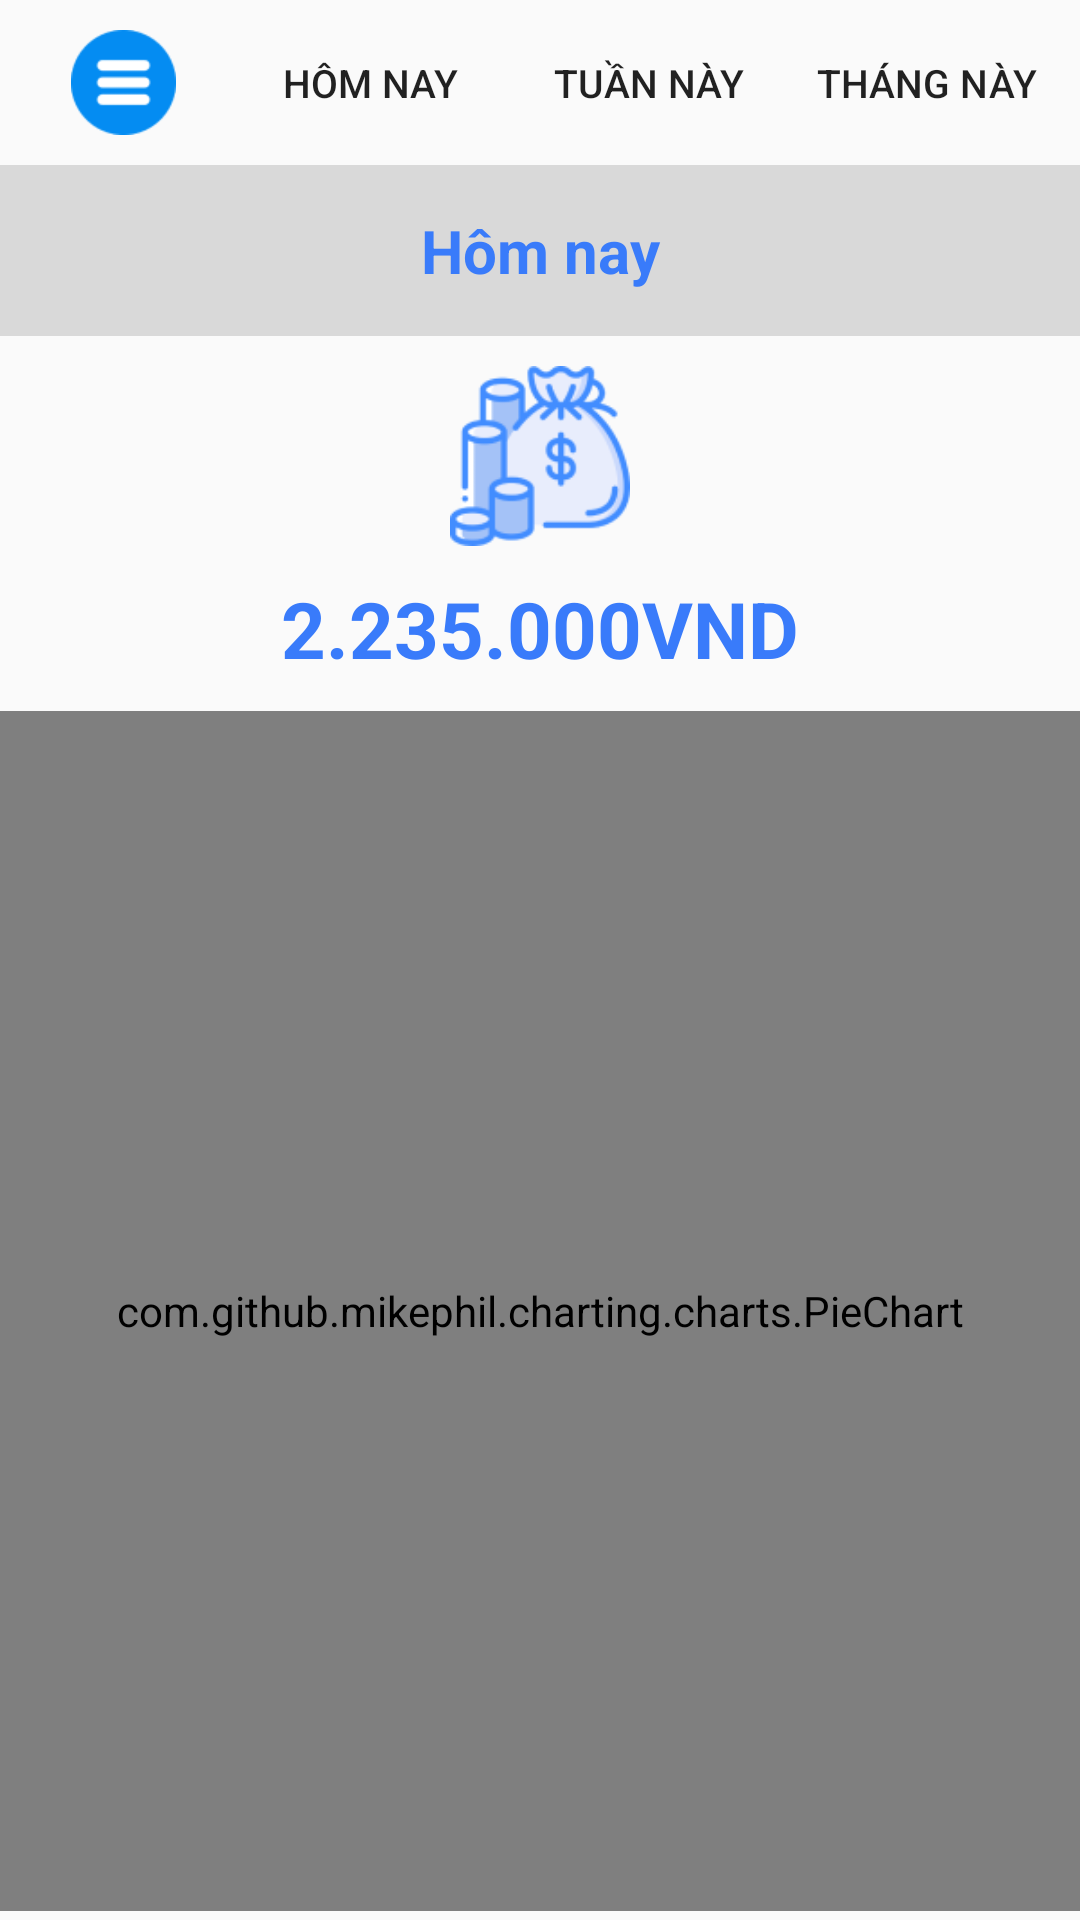

Screen size 1080px x 1920px. Icon name, then its center in pixels as point (x, y):
doanhthu: point (540, 456)
